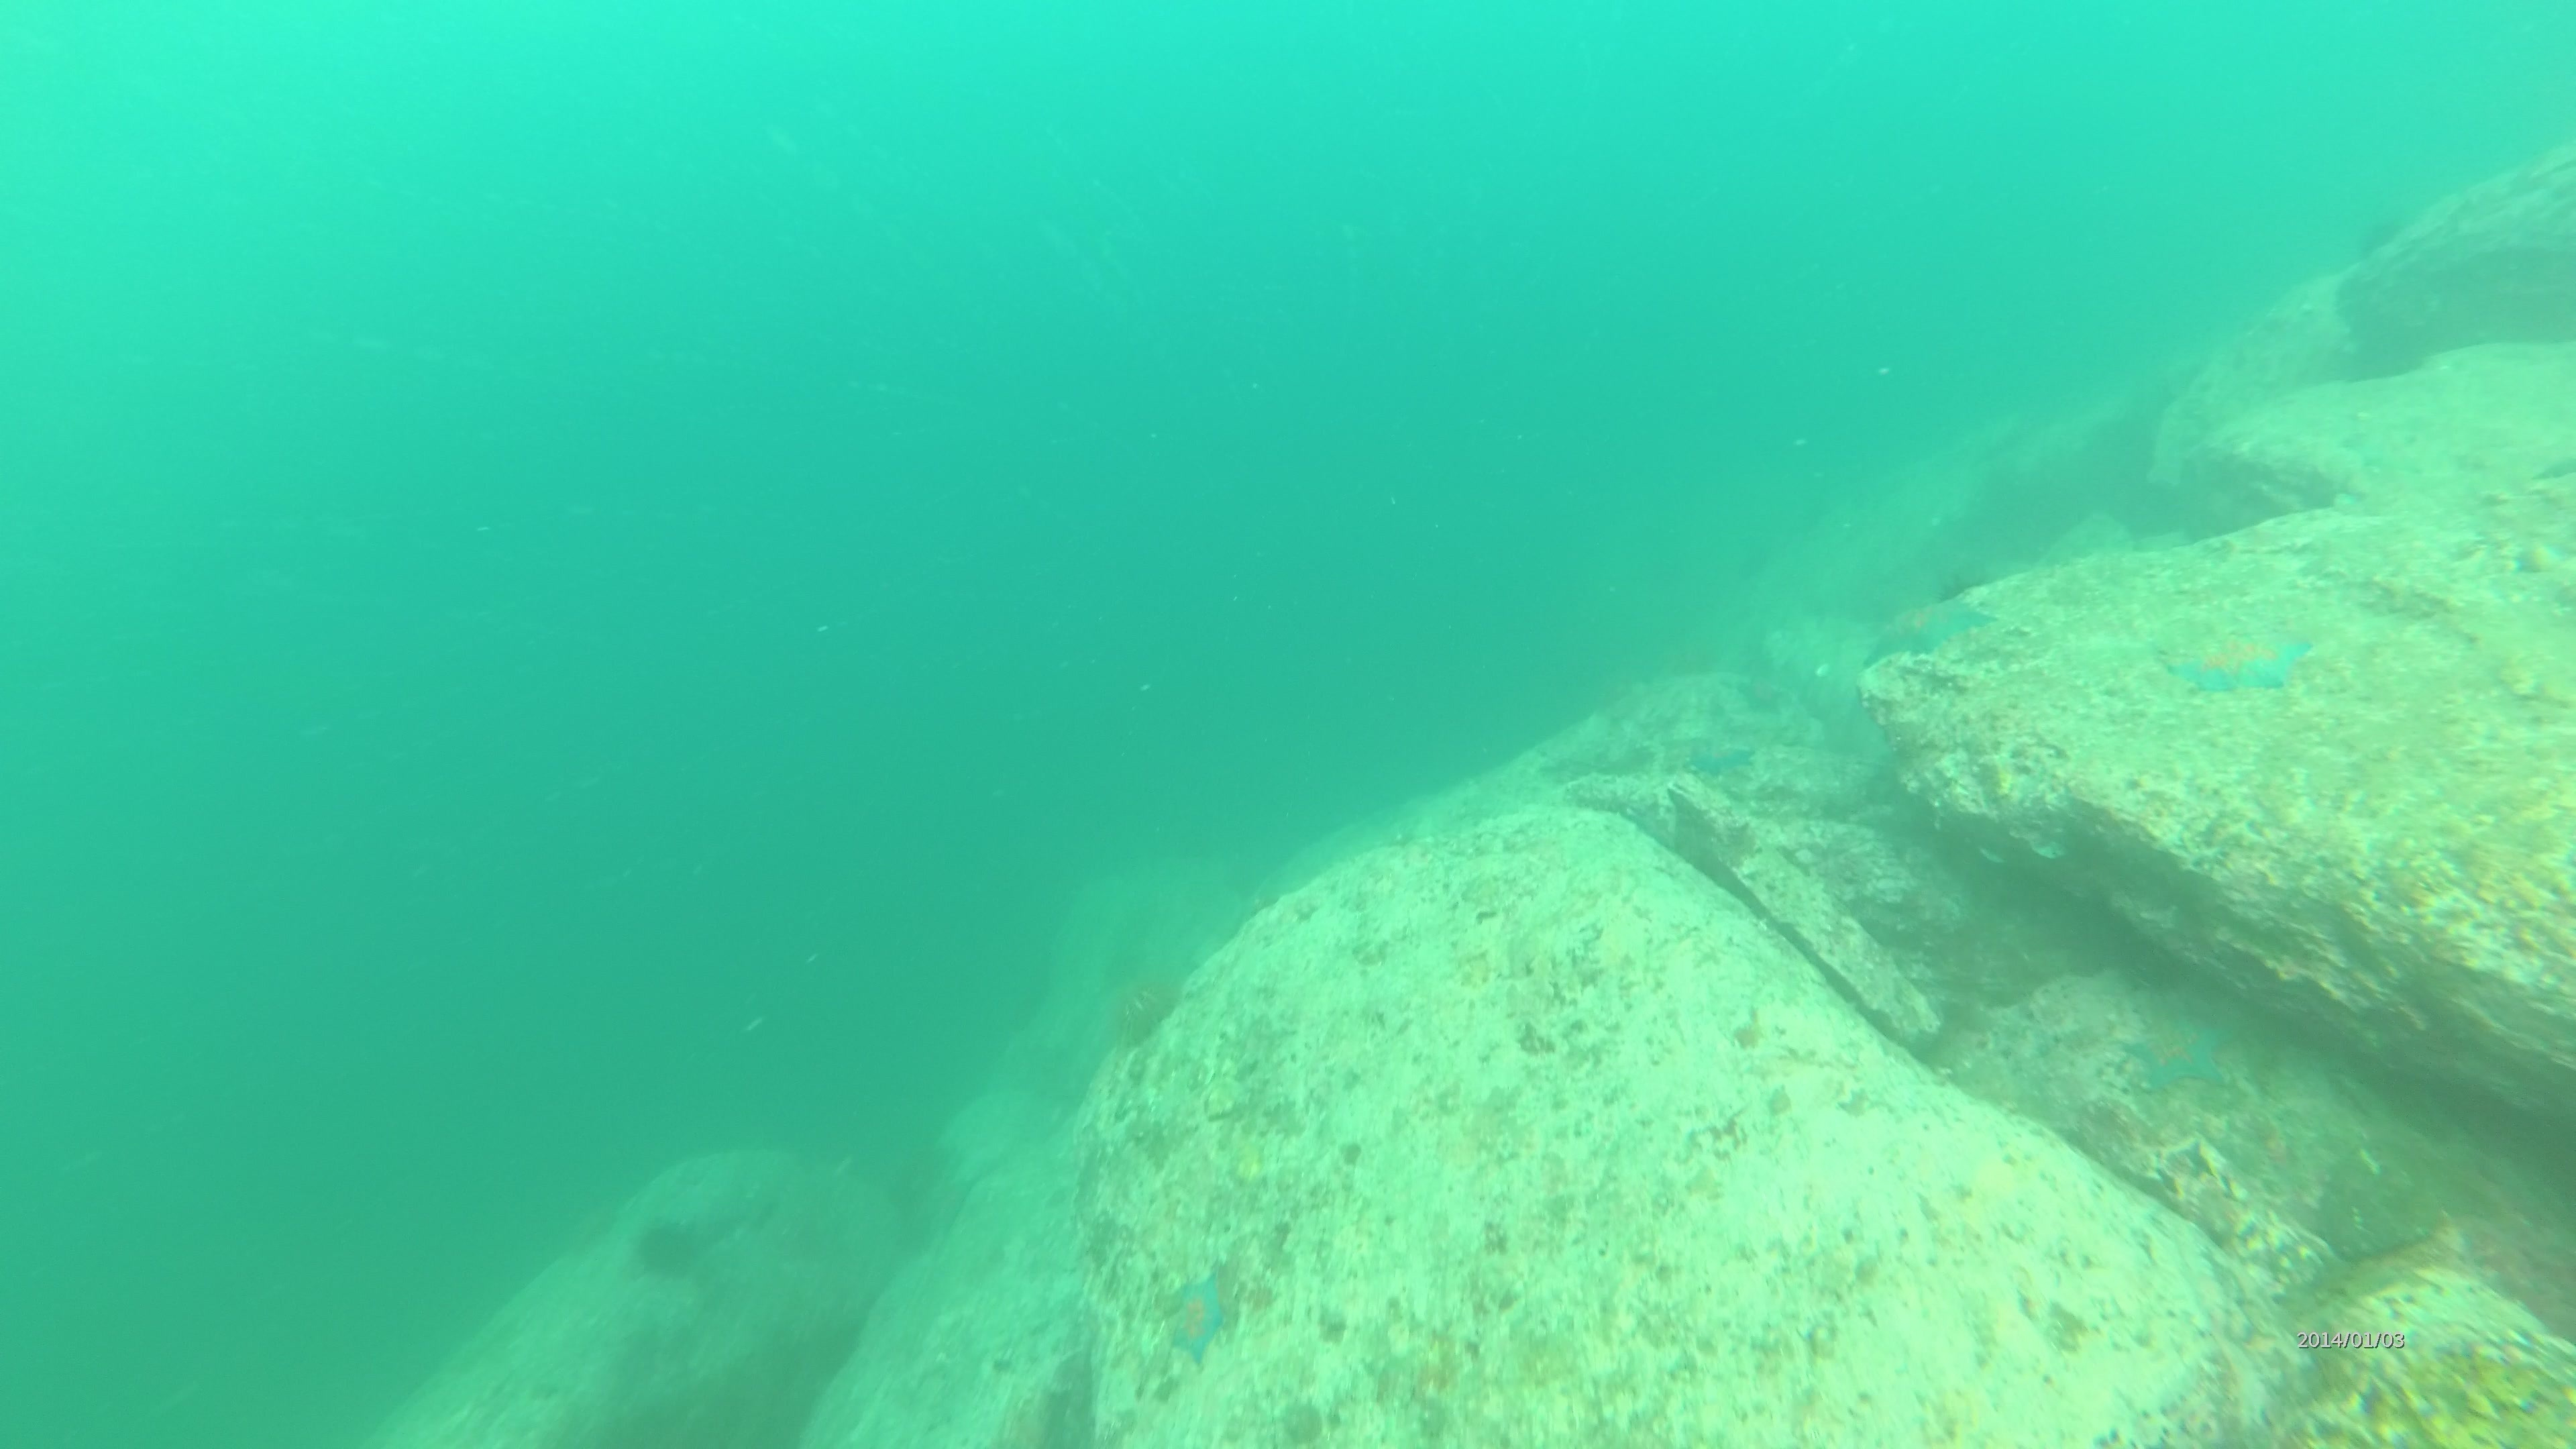echinus: (1090, 950, 1189, 1056), (628, 1210, 709, 1286), (2358, 211, 2404, 255)
starfish: (2158, 614, 2316, 702), (2116, 1003, 2236, 1097), (1861, 587, 1996, 667), (1152, 1258, 1246, 1368), (1683, 745, 1759, 773)
